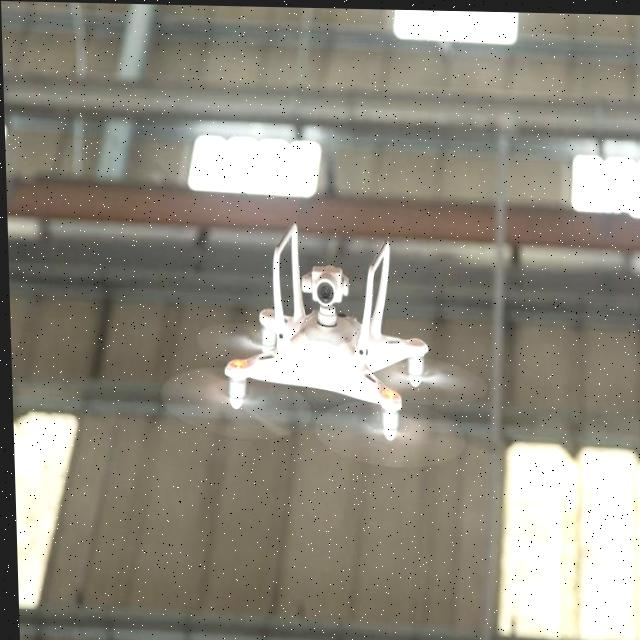drone: (186, 225, 445, 450)
